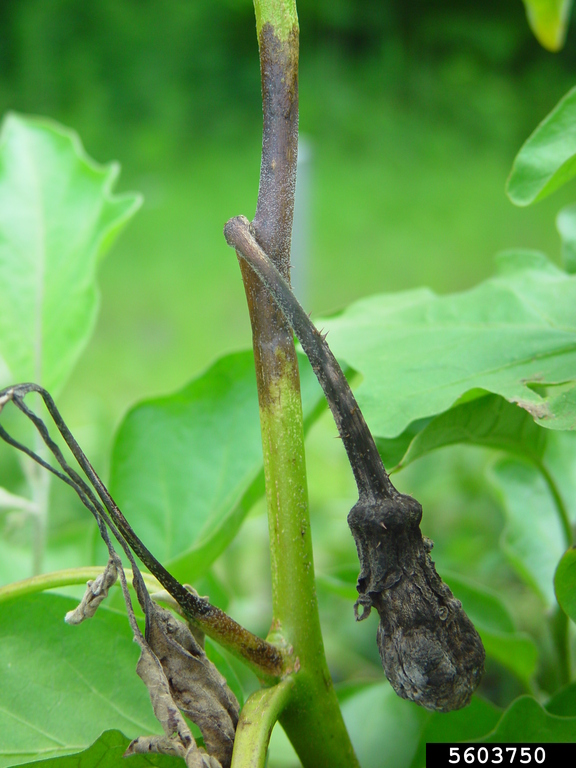Eggplant_PhytophthoraBlight: (288, 319, 529, 723)
